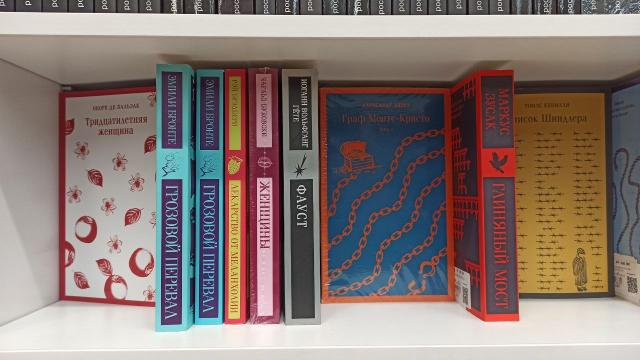book-s-spine: (480, 70, 519, 322), (282, 69, 320, 325), (156, 64, 188, 332), (249, 68, 279, 325), (195, 70, 223, 325), (225, 69, 246, 325)
